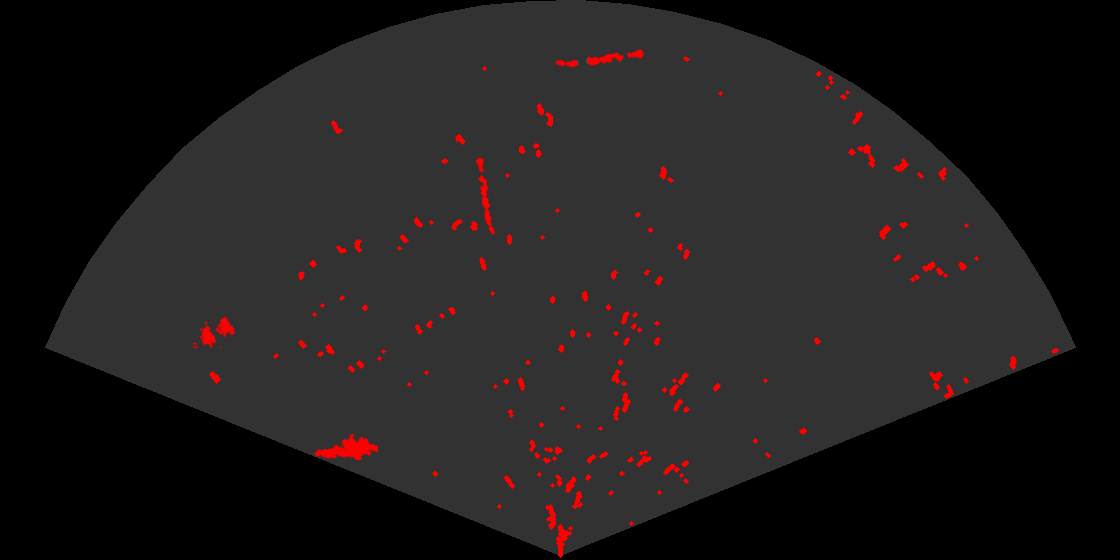cage: (193, 315, 237, 348)
chain: (553, 48, 647, 69), (474, 156, 496, 237)
frogman: (312, 432, 378, 462)
